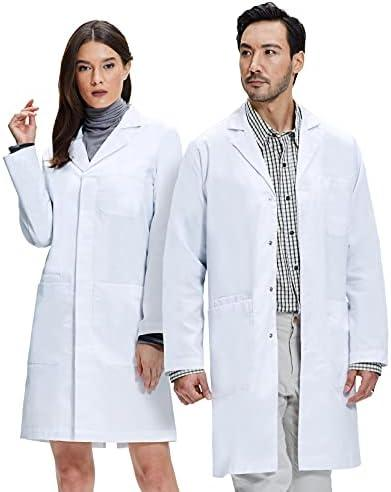Bata-Correcta: (167, 3, 386, 491), (4, 20, 181, 491)
